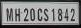character: (5, 7, 13, 22), (14, 7, 20, 22), (29, 7, 35, 21), (36, 7, 42, 21), (63, 8, 69, 22), (69, 8, 75, 21), (50, 7, 55, 22), (23, 7, 28, 21), (43, 7, 48, 21), (57, 8, 62, 21)
